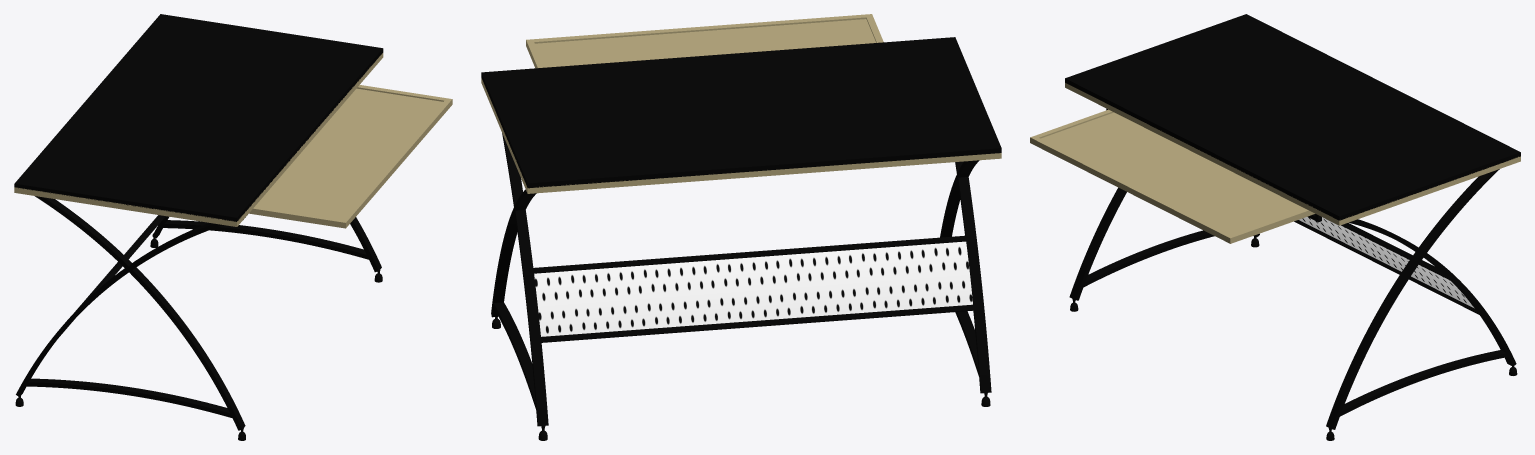
File: Table SIGMA.obj
The picture shows the model from 3 angles, left to right: view 1: azimuth 30°, elevation 25°; view 2: azimuth 150°, elevation 25°; view 3: azimuth 270°, elevation 25°; orthographic projection. The views are drawn at different scales.
Visible parts, largest first — view 1: Box02_1, Box01_8, Arc01_inst_2_3, WRectangl0_7, WRectangle_2, Arc03_4, Arc03_inst_2_4, Arc01_3, Arc01_inst_3_3, Line01_6; view 2: Box02_1, Arc07_5, Box01_8, WRectangle_2, Arc01_inst_4_3, Line01_inst_2_6, Line01_6, Arc01_3, WRectangl0_7, Arc01_inst_3_3, Arc03_inst_2_4, Arc01_inst_2_3 (+1 smaller); view 3: Box02_1, Box01_8, WRectangl0_7, Arc01_inst_3_3, WRectangle_2, Arc07_5, Arc03_inst_2_4, Arc01_inst_4_3, Arc01_inst_2_3, Arc03_4, Line01_inst_2_6, Line01_6.
Part boxes in pixels (x1=…): Box02_1: x1=14, y1=14, x2=383, y2=221; Box01_8: x1=255, y1=88, x2=442, y2=219; Arc01_inst_2_3: x1=35, y1=196, x2=245, y2=430; WRectangl0_7: x1=249, y1=85, x2=452, y2=228; WRectangle_2: x1=14, y1=53, x2=383, y2=226; Arc03_4: x1=23, y1=378, x2=234, y2=418; Arc03_inst_2_4: x1=160, y1=220, x2=370, y2=259; Arc01_3: x1=16, y1=223, x2=223, y2=396; Arc01_inst_3_3: x1=350, y1=217, x2=381, y2=272; Line01_6: x1=89, y1=215, x2=165, y2=297; Box02_1: x1=481, y1=37, x2=1001, y2=188; Arc07_5: x1=534, y1=241, x2=972, y2=336; Box01_8: x1=535, y1=19, x2=876, y2=67; WRectangle_2: x1=481, y1=78, x2=1001, y2=193; Arc01_inst_4_3: x1=502, y1=133, x2=548, y2=426; Line01_inst_2_6: x1=536, y1=304, x2=978, y2=342; Line01_6: x1=528, y1=235, x2=970, y2=273; Arc01_3: x1=955, y1=161, x2=991, y2=393; WRectangl0_7: x1=526, y1=14, x2=883, y2=68; Arc01_inst_3_3: x1=491, y1=189, x2=536, y2=317; Arc03_inst_2_4: x1=493, y1=302, x2=536, y2=409; Arc01_inst_2_3: x1=940, y1=160, x2=979, y2=237; Box02_1: x1=1065, y1=14, x2=1520, y2=220; Box01_8: x1=1041, y1=112, x2=1304, y2=234; WRectangl0_7: x1=1030, y1=109, x2=1314, y2=243; Arc01_inst_3_3: x1=1326, y1=169, x2=1499, y2=429; WRectangle_2: x1=1065, y1=83, x2=1520, y2=225; Arc07_5: x1=1299, y1=217, x2=1474, y2=308; Arc03_inst_2_4: x1=1340, y1=350, x2=1508, y2=416; Arc01_inst_4_3: x1=1349, y1=219, x2=1516, y2=366; Arc01_inst_2_3: x1=1069, y1=187, x2=1126, y2=300; Arc03_4: x1=1082, y1=230, x2=1214, y2=287; Line01_inst_2_6: x1=1294, y1=220, x2=1479, y2=314; Line01_6: x1=1341, y1=223, x2=1449, y2=279.
Bounding box in the file's own units: 1593 × 804 × 1575.
